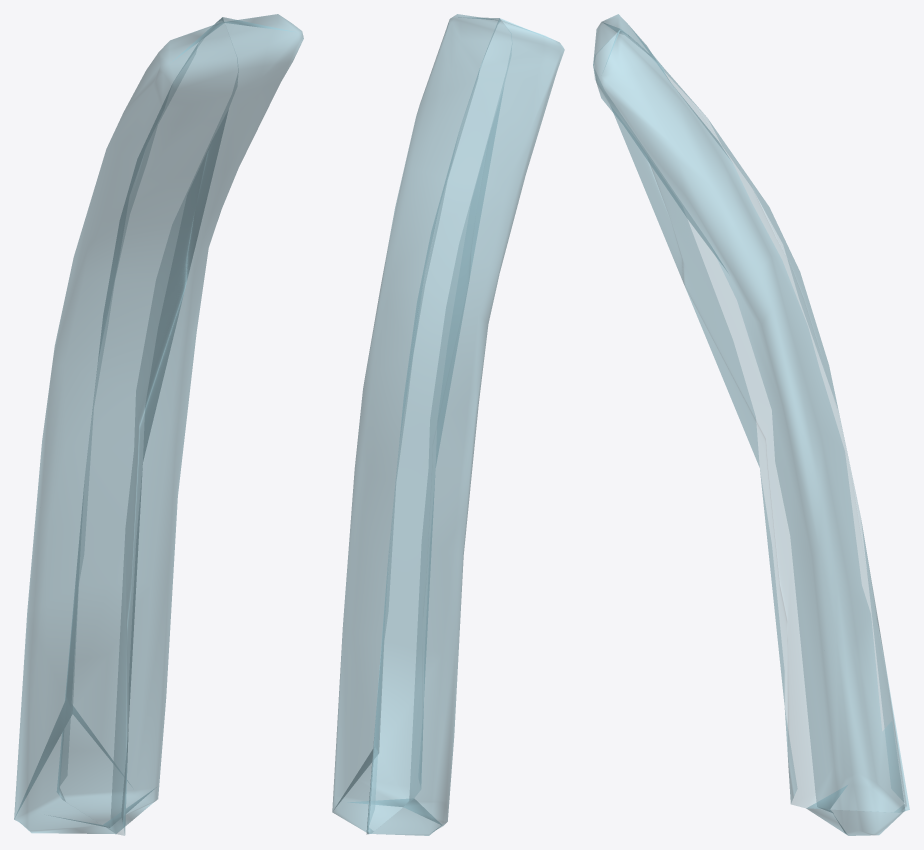
File: nervoso-aqueduct-of-midbrain.glb
The picture shows the model from 3 angles, left to right: view 1: azimuth 30°, elevation 25°; view 2: azimuth 150°, elevation 25°; view 3: azimuth 270°, elevation 25°; orthographic projection. The views are drawn at different scales.
Visible parts, largest first — view 1: Aqueduct of midbrain; view 2: Aqueduct of midbrain; view 3: Aqueduct of midbrain.
Boxes of the visible parts, x1,y1,x2,y2 form: Aqueduct of midbrain: (14,14,303,835); Aqueduct of midbrain: (332,14,564,835); Aqueduct of midbrain: (593,14,909,835).
Bounding box in the file's own units: 0.00287 × 0.017 × 0.00624.
